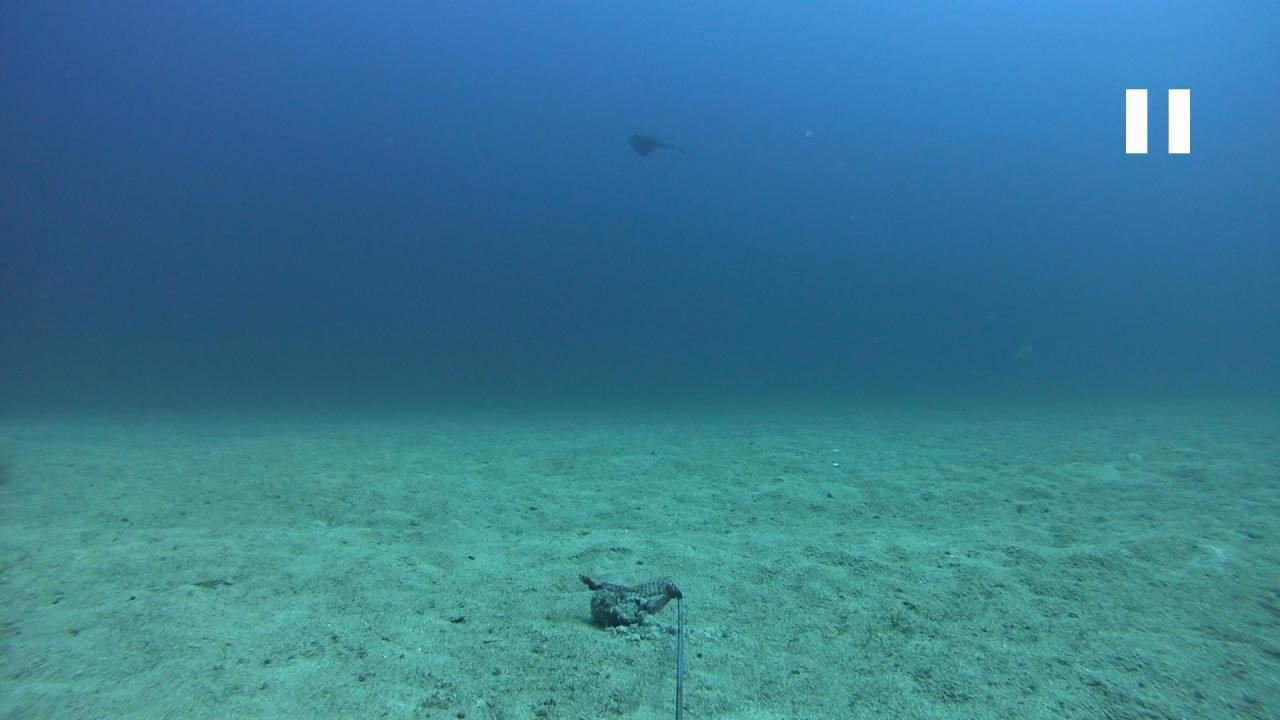dasyatis: (624, 132, 688, 158)
